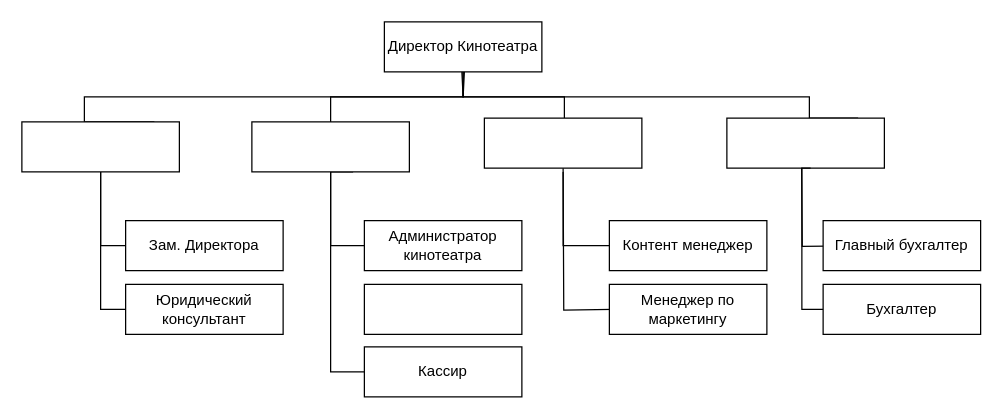
The diagram is 1003 pixels wide and 419 high, and some of its shapes have lost their labels. Each missing label, with the centre of its shape:
Бухгалтерcий отдел: (x=805, y=142)
Контролер зала: (x=442, y=308)
Операционный отдел: (x=330, y=146)
Отдел контента и продвижения: (x=562, y=142)
Отдел управления: (x=100, y=146)
